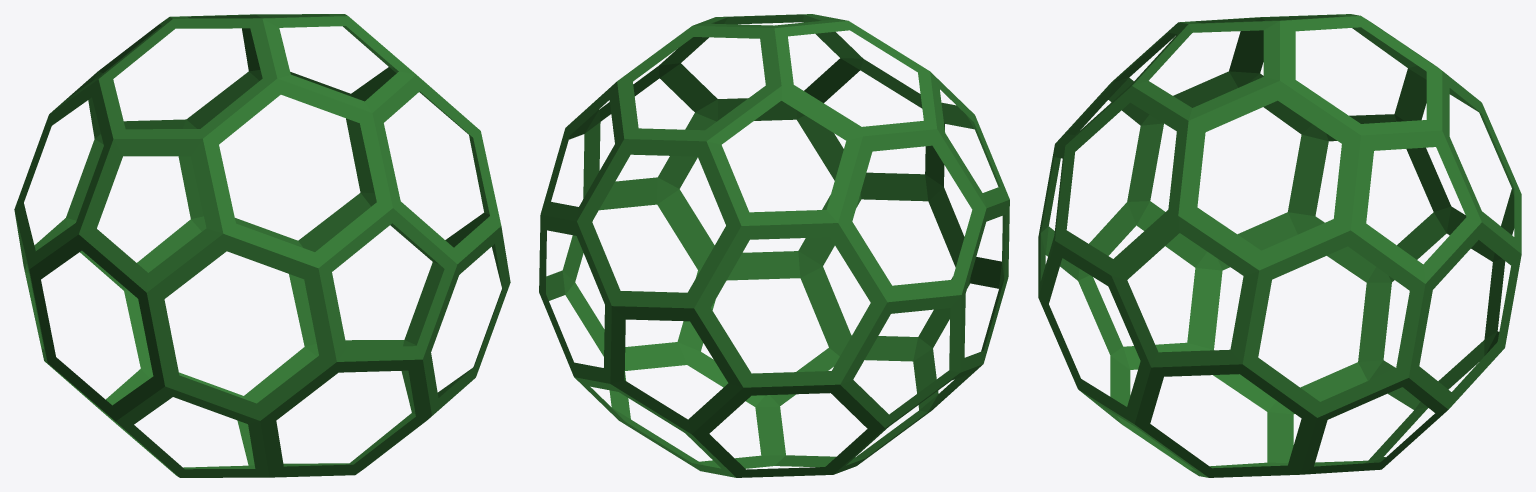
File: PowerUpItemCage.fbx
3 renders of one model, left to right at view 1: azimuth 30°, elevation 25°; view 2: azimuth 150°, elevation 25°; view 3: azimuth 270°, elevation 25°, orthographic. The views are drawn at different scales.
Parts seen in each view (by area): view 1: PowerUpItemCage:polySurface1; view 2: PowerUpItemCage:polySurface1; view 3: PowerUpItemCage:polySurface1.
Part boxes in pixels (bbox=[...]): PowerUpItemCage:polySurface1: bbox=[14, 14, 510, 477]; PowerUpItemCage:polySurface1: bbox=[539, 14, 1009, 477]; PowerUpItemCage:polySurface1: bbox=[1038, 14, 1521, 477].
Size of the model in its own units: 14.36 by 14.55 by 14.17.
